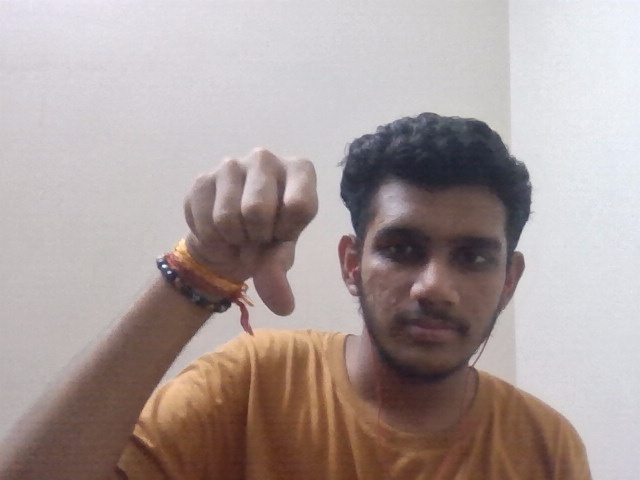yes: (161, 146, 321, 319)
